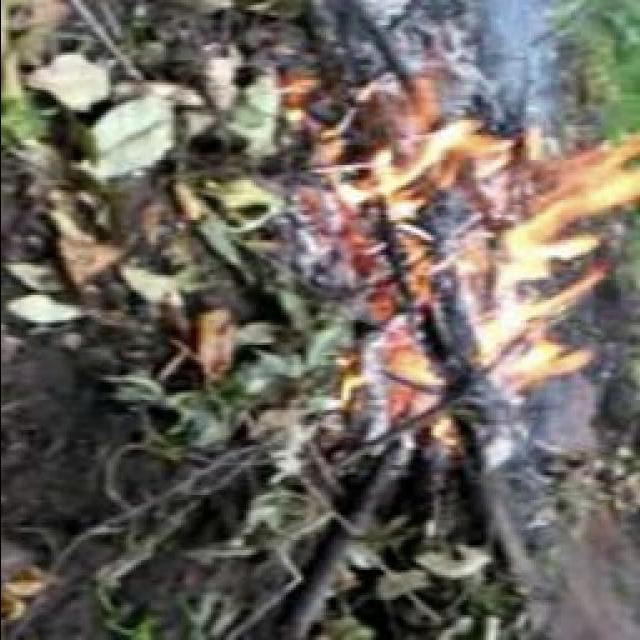Fire: (296, 77, 636, 436)
